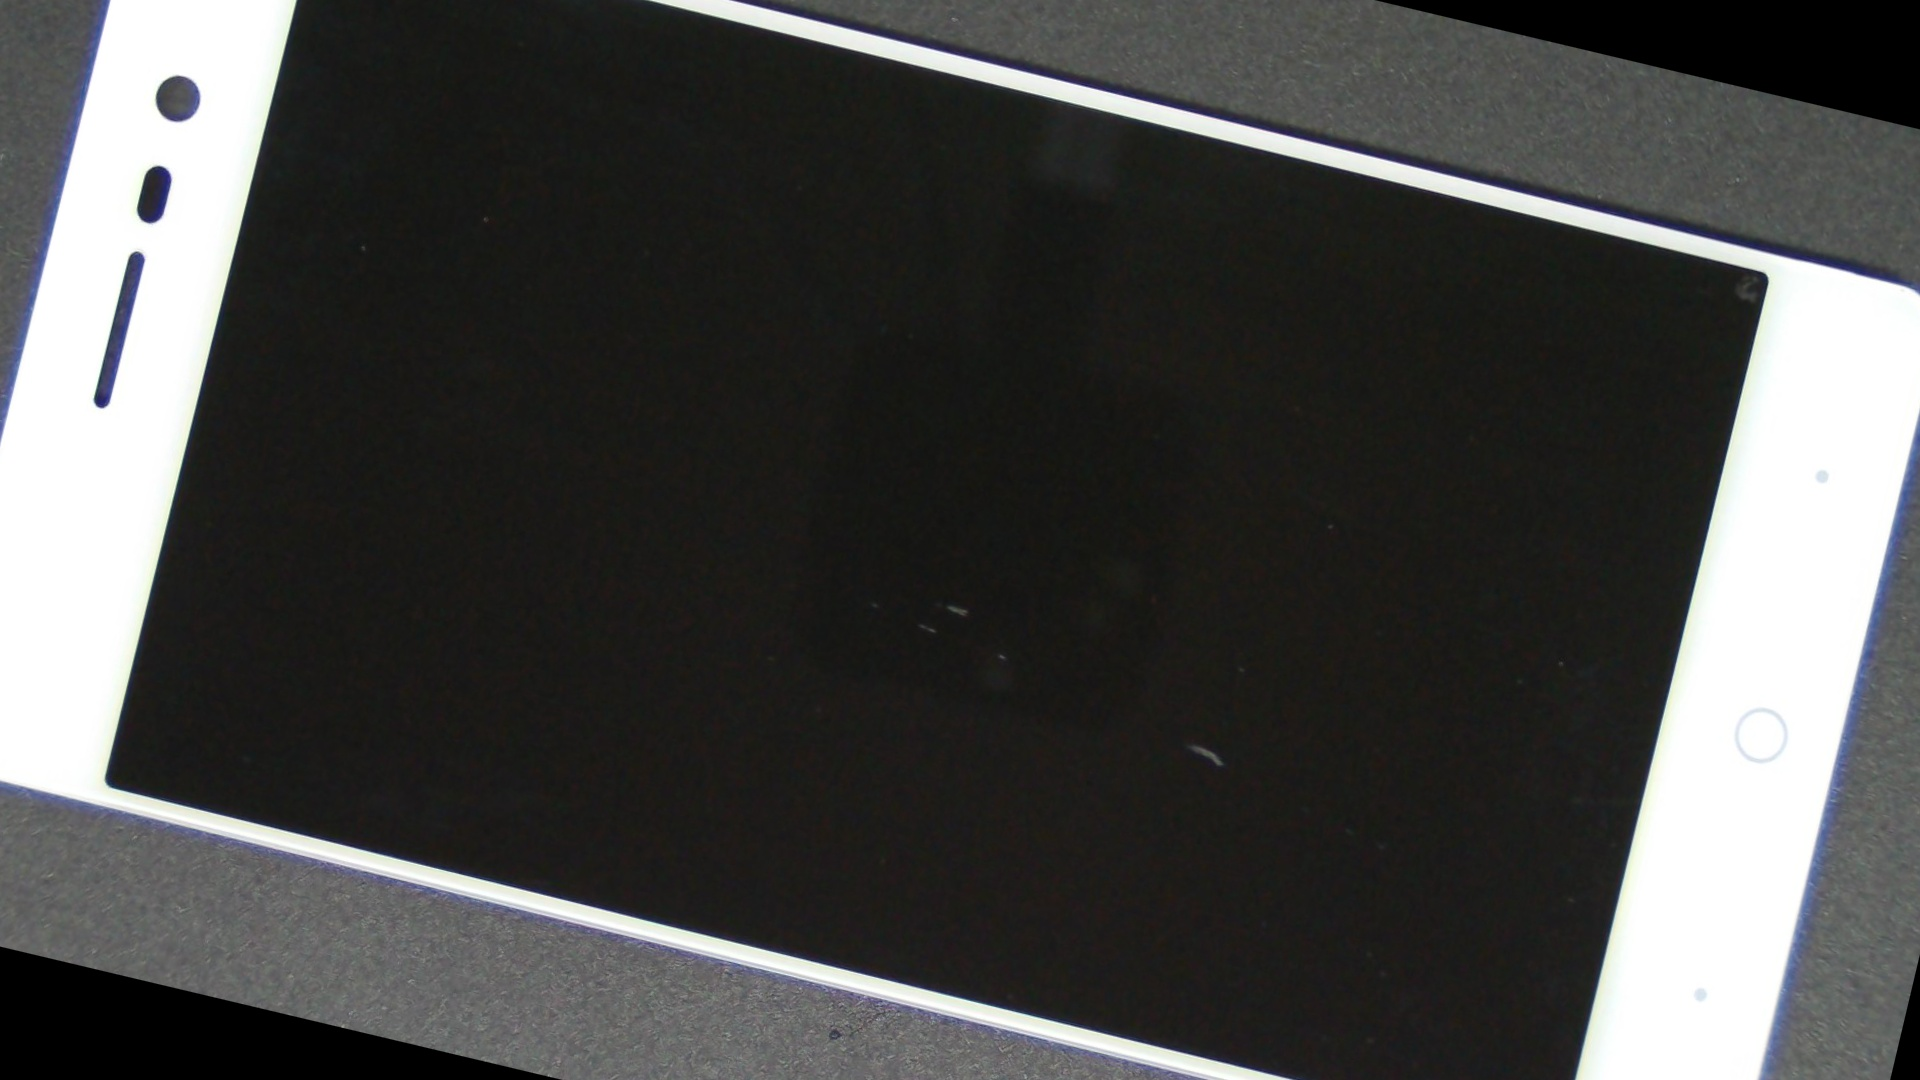oil: (451, 215, 1920, 1080), (349, 146, 1564, 1064), (326, 156, 1516, 1080)
